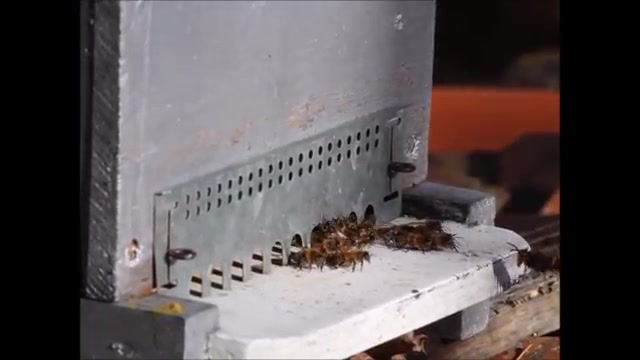bee: (386, 220, 449, 249), (317, 216, 380, 245), (292, 248, 332, 274), (336, 249, 373, 271)
hornet: (510, 240, 561, 276)
